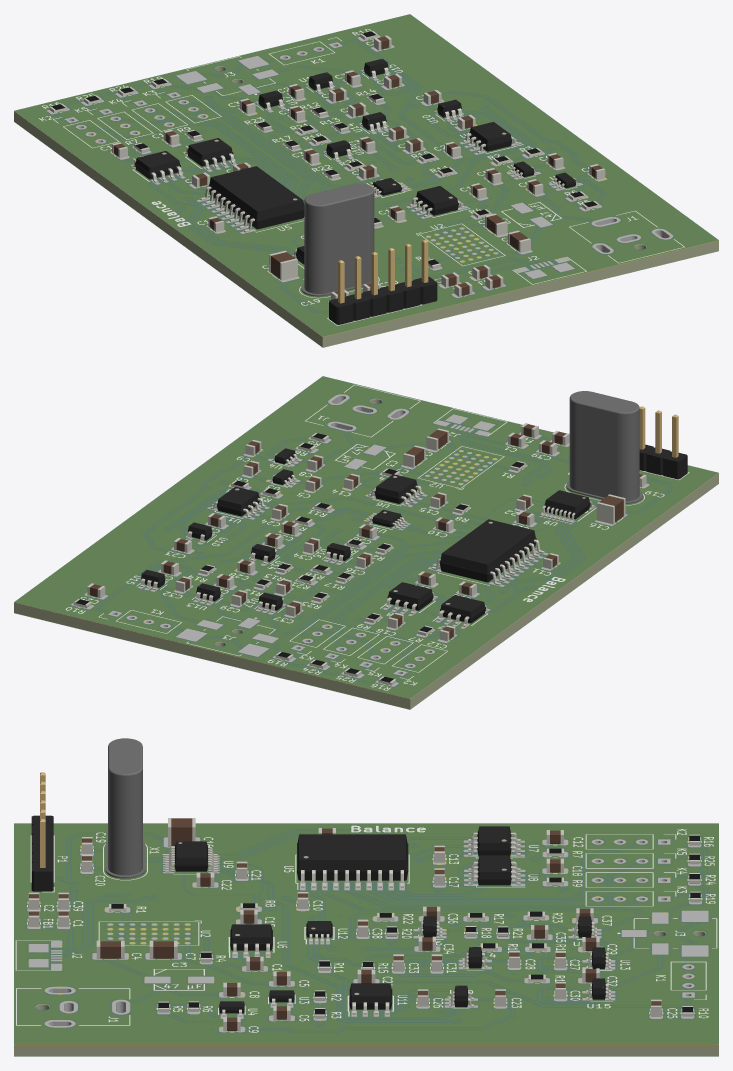
Rendered from main_board.glb.
The picture shows the model from 3 angles, top to bottom: view 1: azimuth 30°, elevation 25°; view 2: azimuth 150°, elevation 25°; view 3: azimuth 270°, elevation 25°; orthographic projection. The views are drawn at different scales.
Parts seen in each view (by area): view 1: mystat_soldermask (×2), mystat_copper, mystat_PCB, mystat_pad, X1, mystat_silkscreen, P1, U5, U6, U11, U7, U8 (+1 smaller); view 2: mystat_soldermask (×2), mystat_copper, mystat_PCB, mystat_pad, X1, mystat_silkscreen, U5, P1, U9, U6, U11, U8 (+2 smaller); view 3: mystat_soldermask (×2), mystat_copper, mystat_PCB, mystat_pad, mystat_silkscreen, U5, X1, P1, U9, U8, U7, U11 (+5 smaller).
Boxes of the visible parts, left/top/right/bottom form: mystat_soldermask (×2): left=14, top=14, right=718, bottom=347; mystat_copper: left=15, top=15, right=717, bottom=336; mystat_PCB: left=14, top=34, right=718, bottom=347; mystat_pad: left=47, top=35, right=672, bottom=302; X1: left=301, top=183, right=374, bottom=296; mystat_silkscreen: left=39, top=29, right=684, bottom=325; P1: left=329, top=239, right=437, bottom=324; U5: left=200, top=166, right=304, bottom=232; U6: left=409, top=186, right=464, bottom=217; U11: left=463, top=122, right=518, bottom=153; U7: left=132, top=151, right=183, bottom=182; U8: left=185, top=138, right=235, bottom=169; mystat_soldermask (×2): left=14, top=376, right=718, bottom=709; mystat_copper: left=15, top=377, right=717, bottom=698; mystat_PCB: left=14, top=394, right=718, bottom=709; mystat_pad: left=71, top=394, right=649, bottom=686; X1: left=566, top=391, right=642, bottom=503; mystat_silkscreen: left=65, top=384, right=689, bottom=690; U5: left=431, top=519, right=544, bottom=585; P1: left=639, top=406, right=687, bottom=479; U9: left=540, top=490, right=594, bottom=523; U6: left=368, top=474, right=424, bottom=505; U11: left=210, top=486, right=266, bottom=518; U8: left=385, top=582, right=435, bottom=614; mystat_soldermask (×2): left=14, top=823, right=718, bottom=1056; mystat_copper: left=15, top=824, right=717, bottom=1044; mystat_PCB: left=14, top=830, right=718, bottom=1056; mystat_pad: left=27, top=837, right=707, bottom=1032; mystat_silkscreen: left=15, top=825, right=717, bottom=1032; U5: left=297, top=834, right=408, bottom=887; X1: left=105, top=738, right=145, bottom=878; P1: left=31, top=772, right=53, bottom=891; U9: left=165, top=841, right=217, bottom=872; U8: left=468, top=855, right=520, bottom=885; U7: left=468, top=826, right=520, bottom=856; U11: left=349, top=983, right=392, bottom=1014.
Bounding box in the file's own units: 0.06 × 0.0161 × 0.081.
